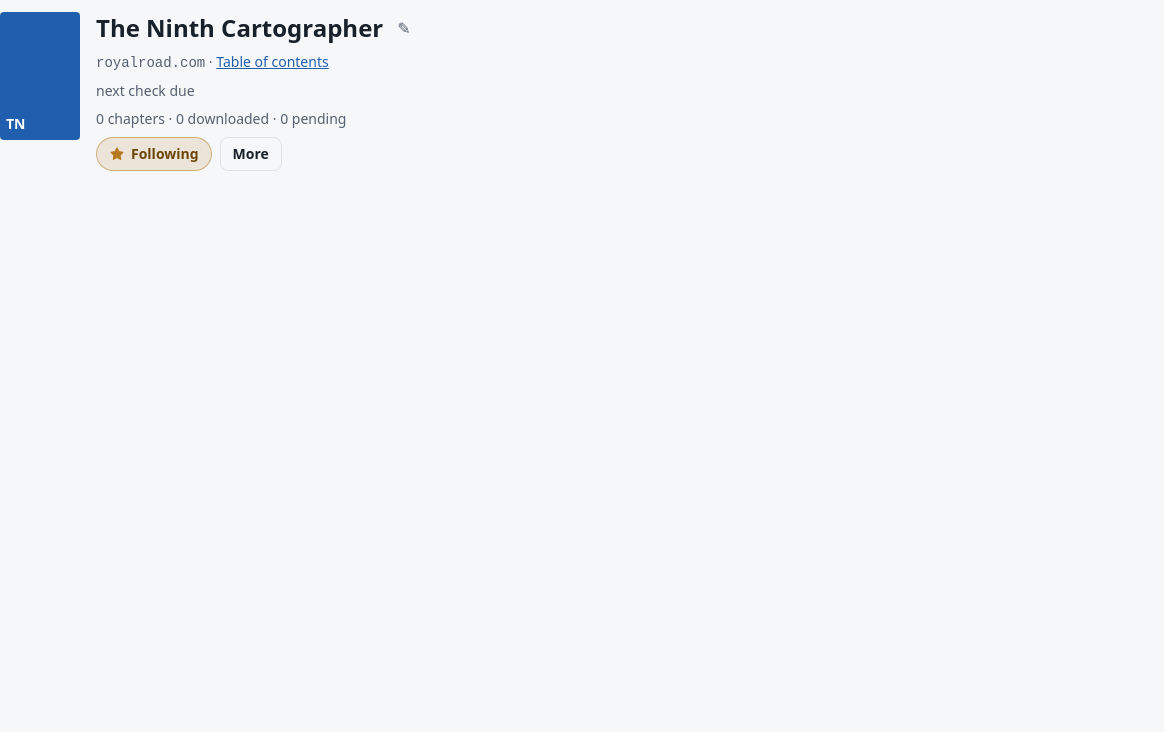
it: NovelHeader › renaming › shows the error in a toast when the title is rejected
Click the button named "Edit title": (404, 28) top-left (391, 16), bottom-right (417, 40)
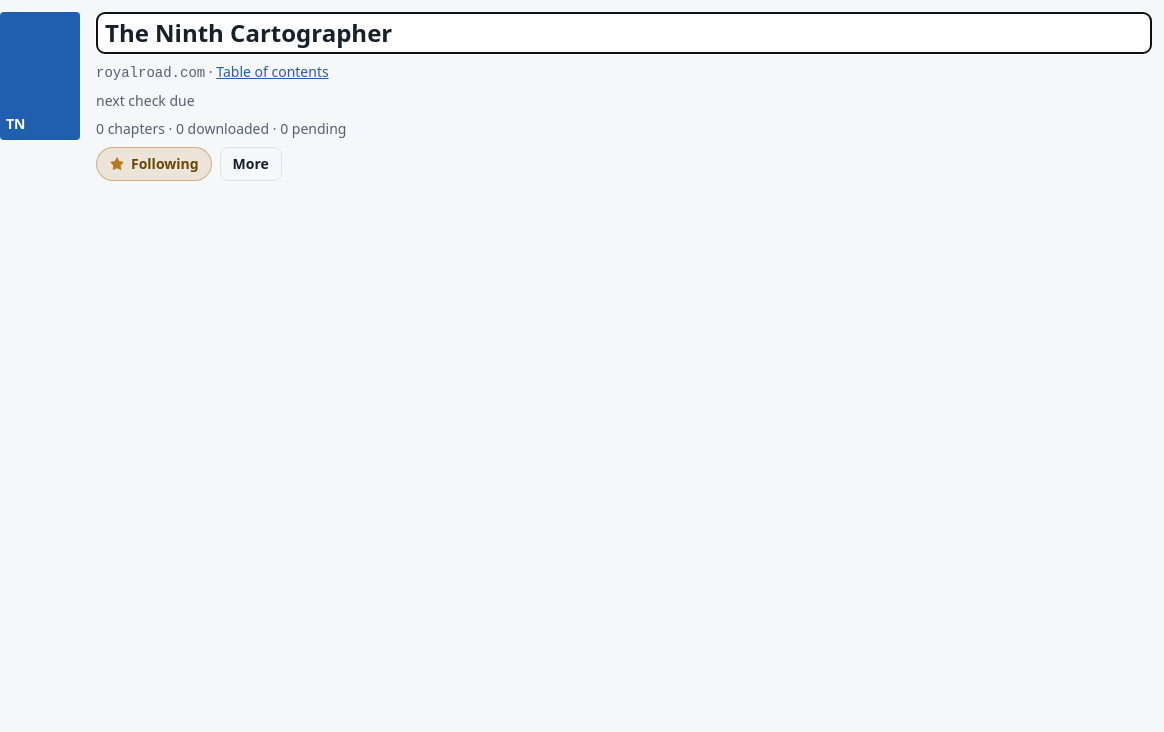
In the field named "Title": (624, 33) top-left (96, 12), bottom-right (1152, 54), type "x"
Then press Enter
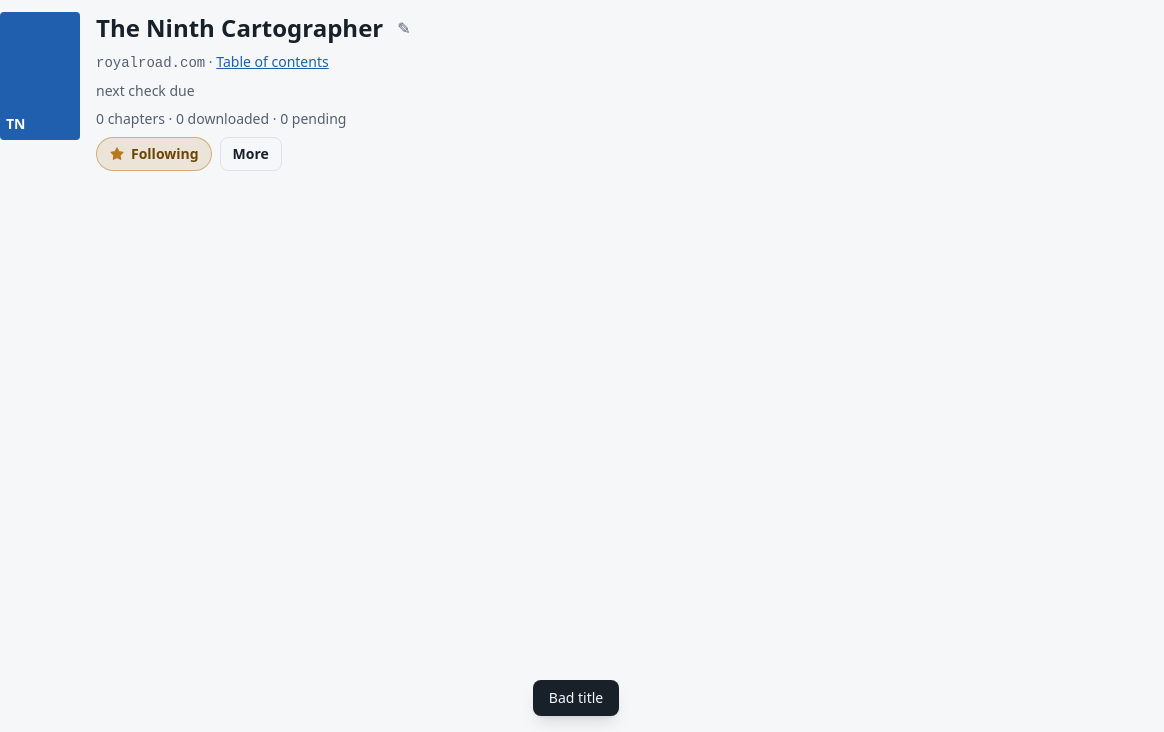
expect the text "Bad title" is shown: met, box top-left (533, 680), bottom-right (619, 716)
